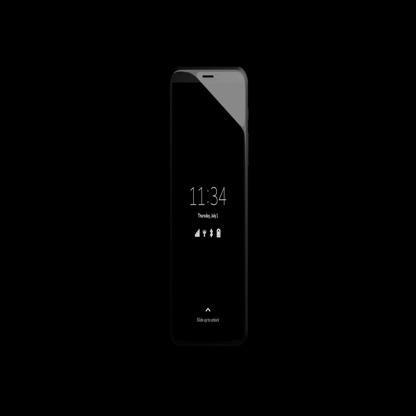not trash: (164, 61, 250, 347)
